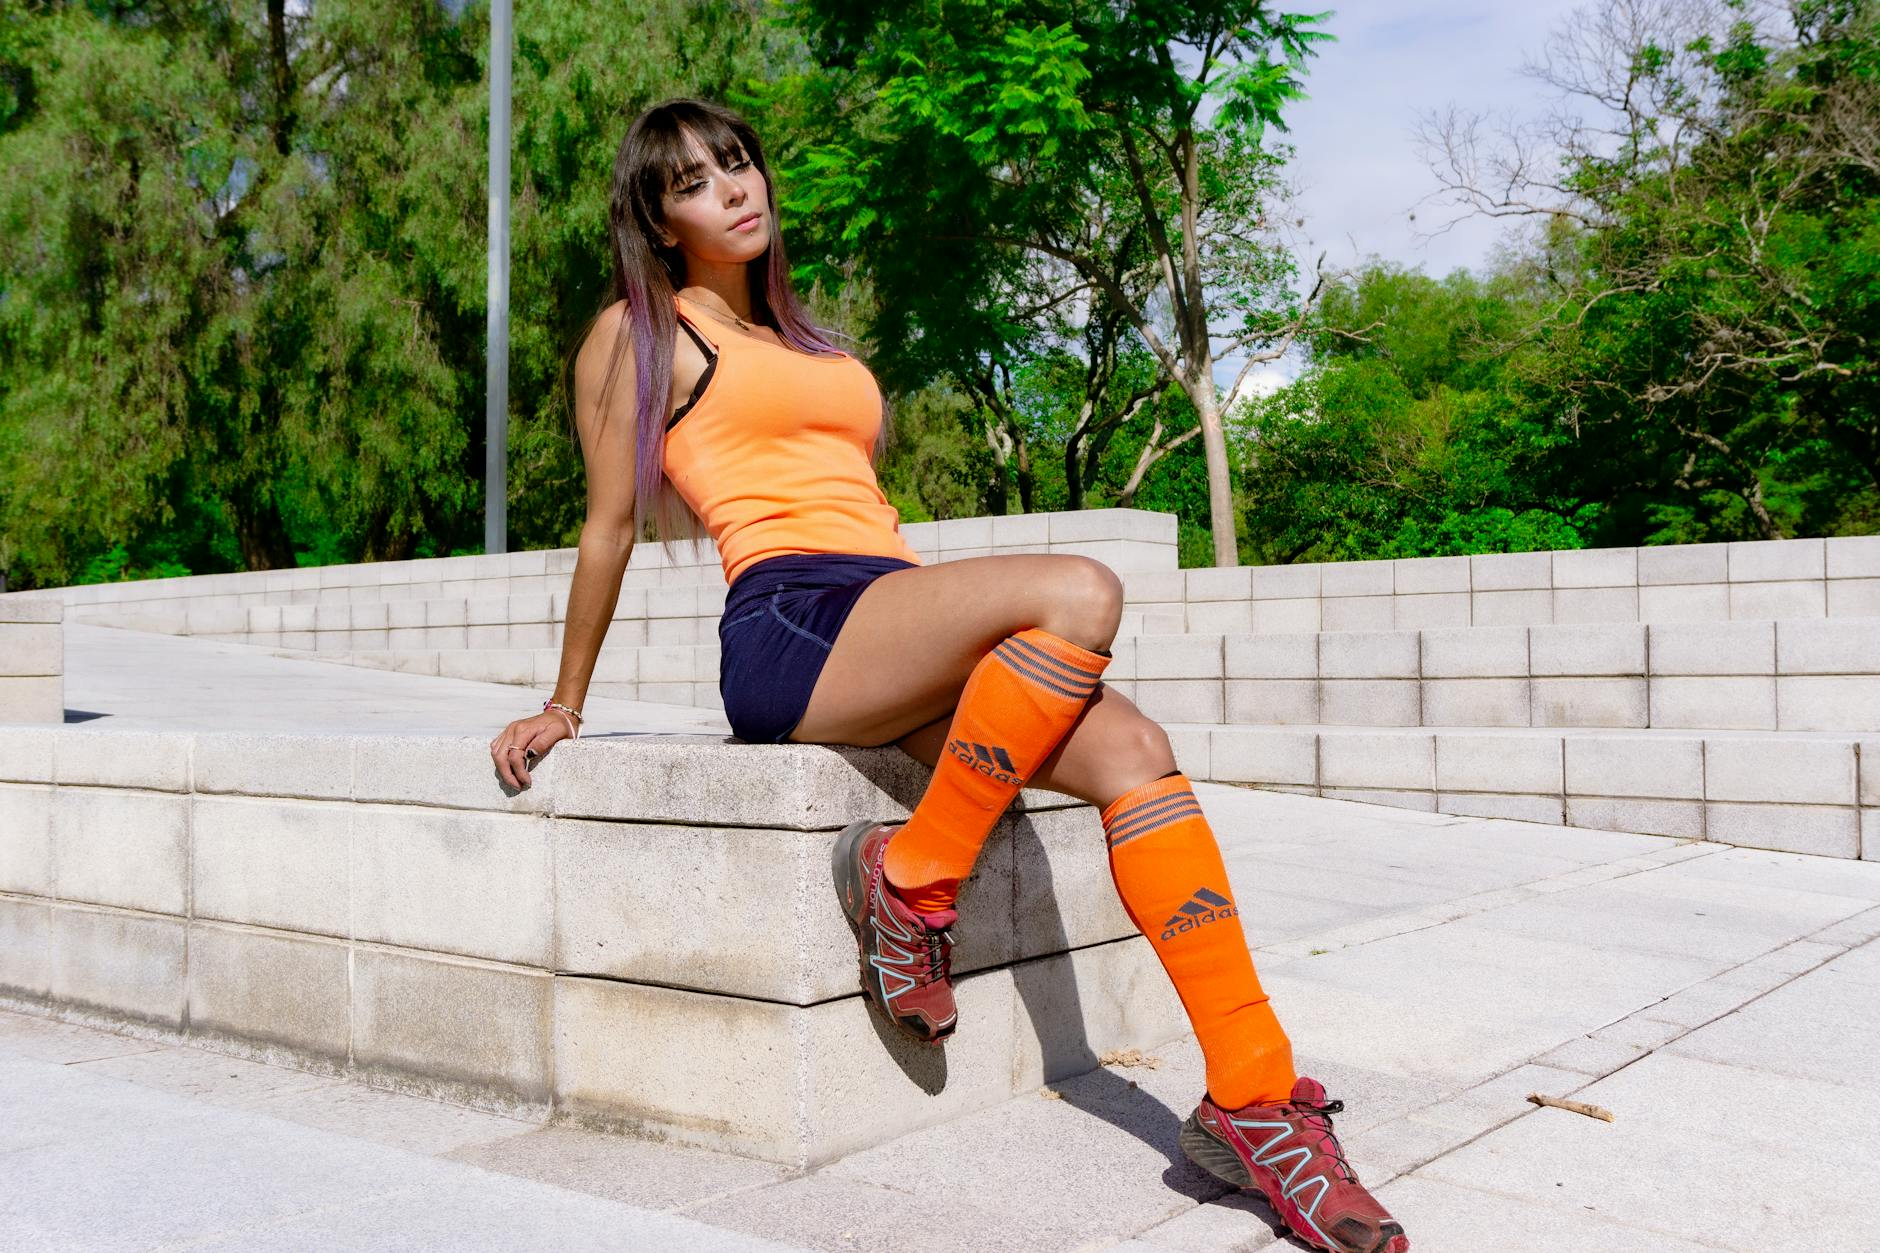shorts: (703, 540, 953, 736)
sleeveless_top: (604, 285, 913, 564)
